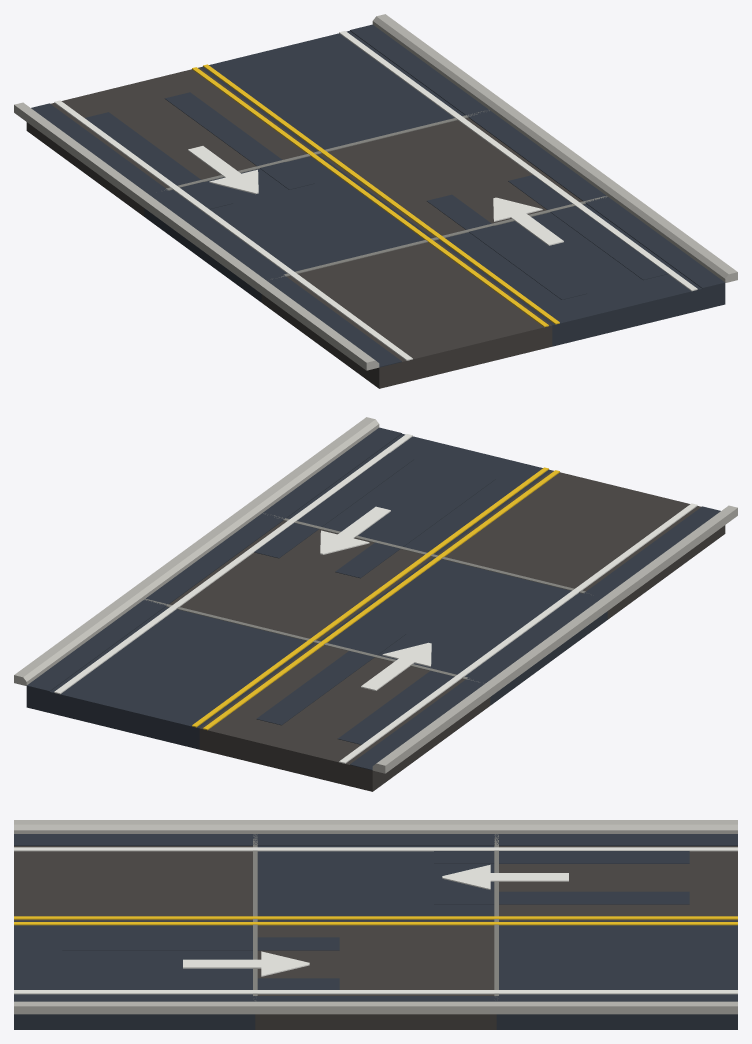
Rendered from ROAD_01.obj.
The picture shows the model from 3 angles, top to bottom: view 1: azimuth 30°, elevation 25°; view 2: azimuth 150°, elevation 25°; view 3: azimuth 270°, elevation 25°; orthographic projection. The views are drawn at different scales.
Visible parts, largest first — view 1: ROAD_01__surface, ROAD_01__markings, ROAD_01__curb, ROAD_01__wear, ROAD_01__seams; view 2: ROAD_01__surface, ROAD_01__markings, ROAD_01__curb, ROAD_01__wear, ROAD_01__seams; view 3: ROAD_01__surface, ROAD_01__markings, ROAD_01__curb, ROAD_01__wear, ROAD_01__seams.
Part boxes in pixels (left/top/right/bottom): ROAD_01__surface: left=26, top=30, right=725, bottom=388; ROAD_01__markings: left=31, top=24, right=725, bottom=367; ROAD_01__curb: left=14, top=14, right=737, bottom=370; ROAD_01__wear: left=85, top=92, right=667, bottom=299; ROAD_01__seams: left=164, top=110, right=607, bottom=279; ROAD_01__surface: left=26, top=433, right=725, bottom=791; ROAD_01__markings: left=26, top=427, right=720, bottom=770; ROAD_01__curb: left=14, top=417, right=737, bottom=773; ROAD_01__wear: left=254, top=453, right=495, bottom=744; ROAD_01__seams: left=144, top=513, right=585, bottom=682; ROAD_01__surface: left=14, top=846, right=737, bottom=1029; ROAD_01__markings: left=14, top=834, right=737, bottom=1001; ROAD_01__curb: left=14, top=820, right=737, bottom=1014; ROAD_01__wear: left=62, top=851, right=689, bottom=989; ROAD_01__seams: left=253, top=834, right=498, bottom=1000.
Bounding box in the file's own units: 7.3 × 0.55 × 12.
